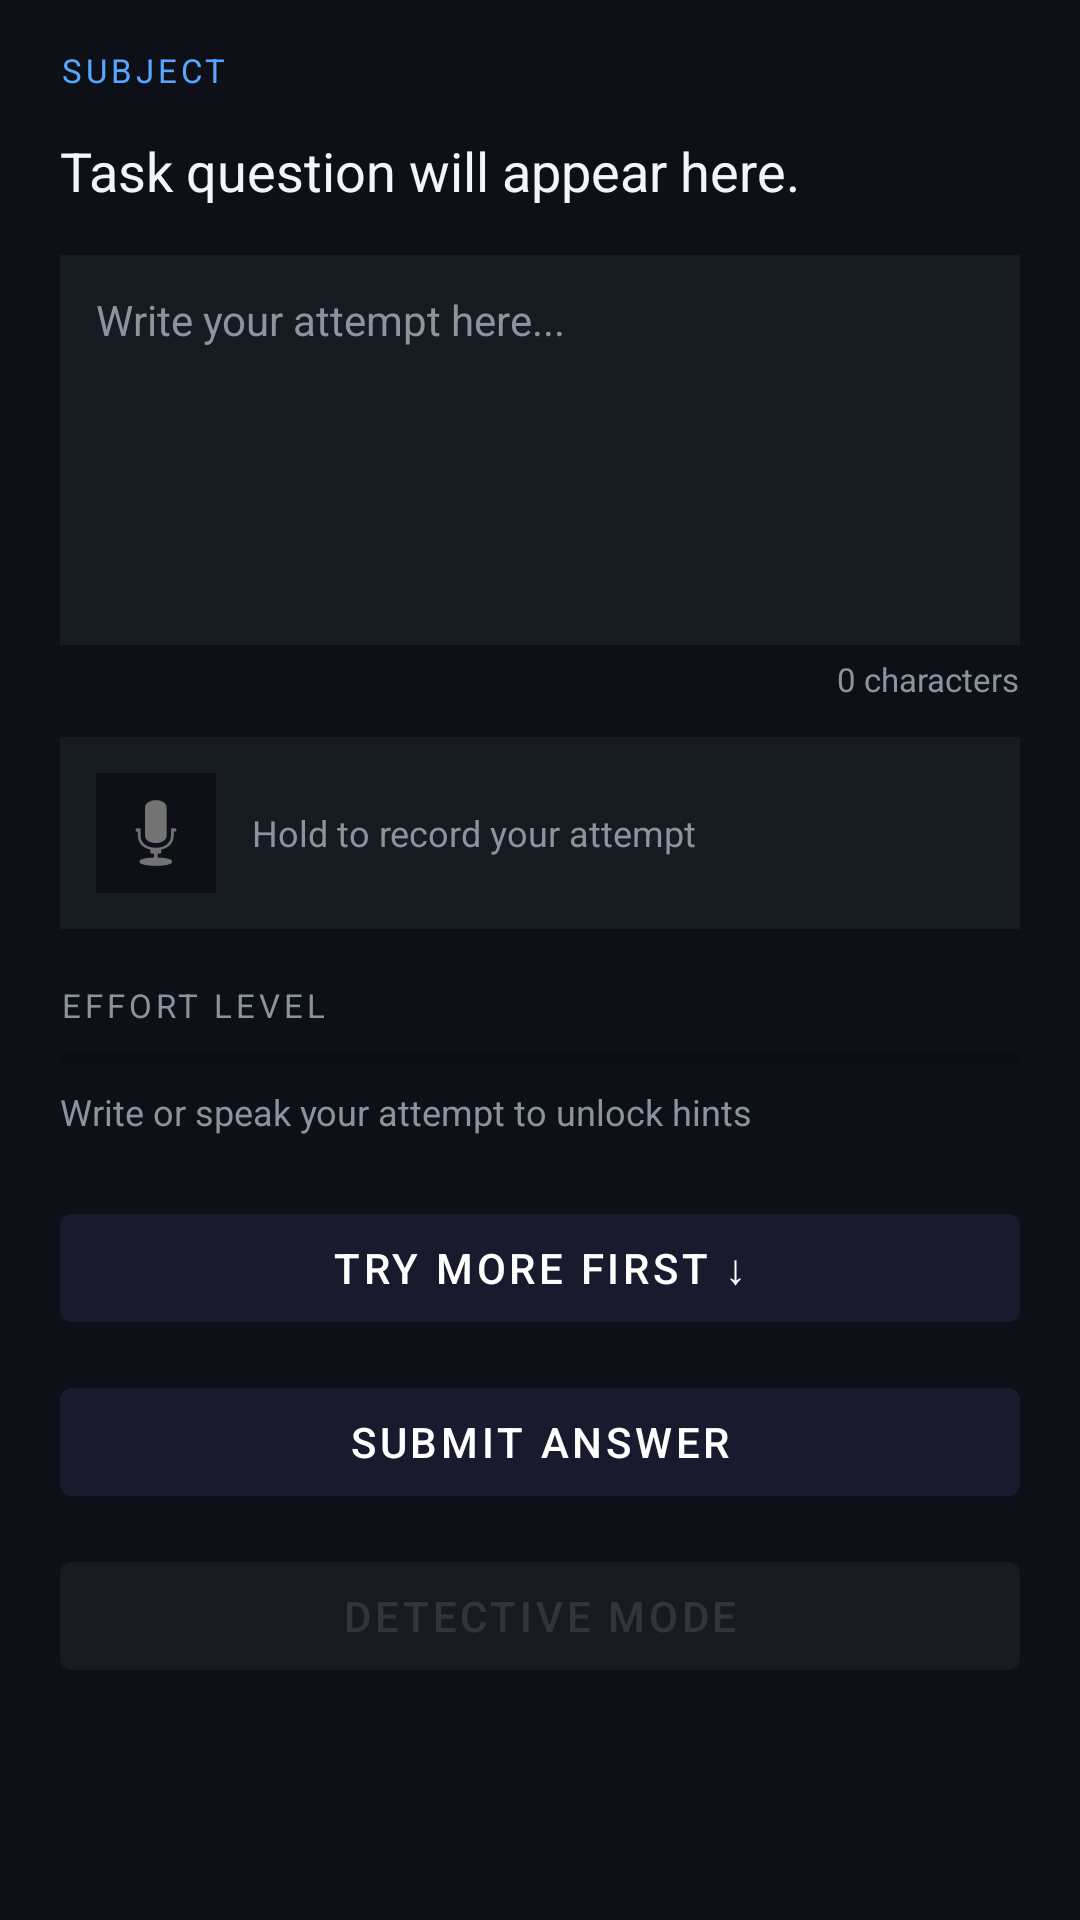

Named icons in this screenshot (1080 × 1920) and their centers, [x,y]:
Speak your attempt: [156,833]
